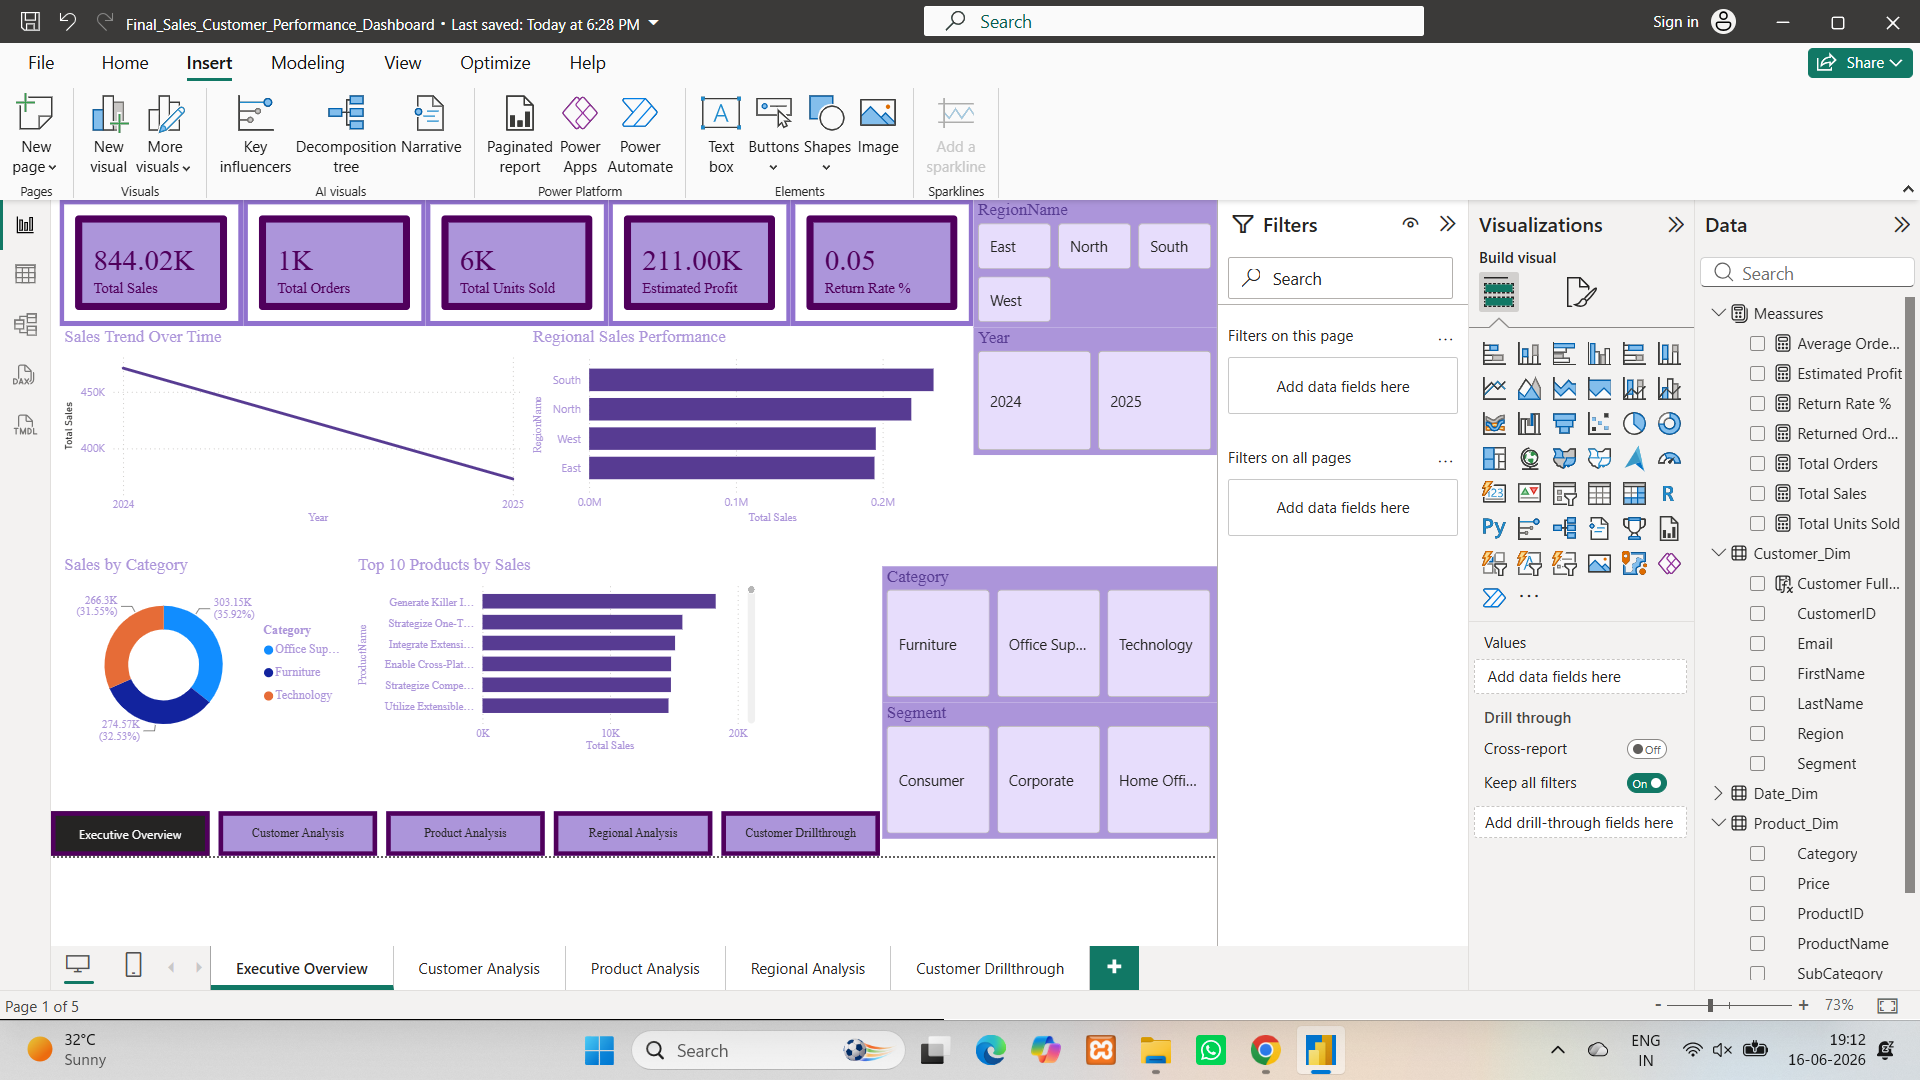

This screenshot's page, from the dashboard's own definition file:
{"tool":"powerbi","page":{"name":"Executive Overview","canvas":[1280,720],"ordinal":0},"visuals":[{"type":"cardVisual","fields":{"Data":["Meassures.Total Sales"]},"box":[9.6,0,201.7,138.6],"z":0},{"type":"cardVisual","fields":{"Data":["Meassures.Total Orders"]},"box":[211.3,0,200.3,138.6],"z":1000},{"type":"cardVisual","fields":{"Data":["Meassures.Total Units Sold"]},"box":[411.7,0,200.3,138.6],"z":2000},{"type":"cardVisual","fields":{"Data":["Meassures.Estimated Profit"]},"box":[612,0,200.3,138.6],"z":3000},{"type":"cardVisual","fields":{"Data":["Meassures.Return Rate %"]},"box":[812.4,0,200.3,138.6],"z":4000},{"type":"lineChart","title":"Sales Trend Over Time","fields":{"Category":["Date_Dim.Date.Variation.Date Hierarchy.Year","Date_Dim.Date.Variation.Date Hierarchy.Quarter","Date_Dim.Date.Variation.Date Hierarchy.Month","Date_Dim.Date.Variation.Date Hierarchy.Day"],"Y":["Meassures.Total Sales"]},"box":[9.6,138.6,514.6,220.9],"z":5000},{"type":"clusteredBarChart","title":"Regional Sales Performance","fields":{"Category":["Region_Dim.RegionName"],"Y":["Meassures.Total Sales"]},"box":[524.2,138.6,488.5,220.9],"z":6000},{"type":"donutChart","title":" Sales by Category","fields":{"Category":["Product_Dim.Category"],"Y":["Meassures.Total Sales"]},"box":[9.6,389.7,322.5,220.9],"z":7000},{"type":"clusteredBarChart","title":"Top 10 Products by Sales","fields":{"Category":["Product_Dim.ProductName"],"Y":["Meassures.Total Sales"]},"box":[332.1,389.7,446,220.9],"z":8000},{"type":"advancedSlicerVisual","fields":{"Values":["Date_Dim.Year"]},"box":[1012.7,140,267.6,140],"z":9000},{"type":"advancedSlicerVisual","fields":{"Values":["Region_Dim.RegionName"]},"box":[1012.7,0,267.6,140],"z":10000},{"type":"advancedSlicerVisual","fields":{"Values":["Customer_Dim.Segment"]},"box":[912.5,551.6,367.8,149.6],"z":11000},{"type":"advancedSlicerVisual","fields":{"Values":["Product_Dim.Category"]},"box":[912.5,402.1,367.8,149.6],"z":12000}]}

Visuals, with their boxes on the page's 1280x720 design canvas (x1, y1, x2, y2). These are canvas units, not pixel positions in the 1920x1080 screenshot, which may show the page scaled, cropped or inside an application window:
cardVisual - Meassures.Total Sales: [10,0,211,139]
cardVisual - Meassures.Total Orders: [211,0,412,139]
cardVisual - Meassures.Total Units Sold: [412,0,612,139]
cardVisual - Meassures.Estimated Profit: [612,0,812,139]
cardVisual - Meassures.Return Rate %: [812,0,1013,139]
"Sales Trend Over Time" lineChart: [10,139,524,360]
"Regional Sales Performance" clusteredBarChart: [524,139,1013,360]
" Sales by Category" donutChart: [10,390,332,611]
"Top 10 Products by Sales" clusteredBarChart: [332,390,778,611]
advancedSlicerVisual - Date_Dim.Year: [1013,140,1280,280]
advancedSlicerVisual - Region_Dim.RegionName: [1013,0,1280,140]
advancedSlicerVisual - Customer_Dim.Segment: [912,552,1280,701]
advancedSlicerVisual - Product_Dim.Category: [912,402,1280,552]
